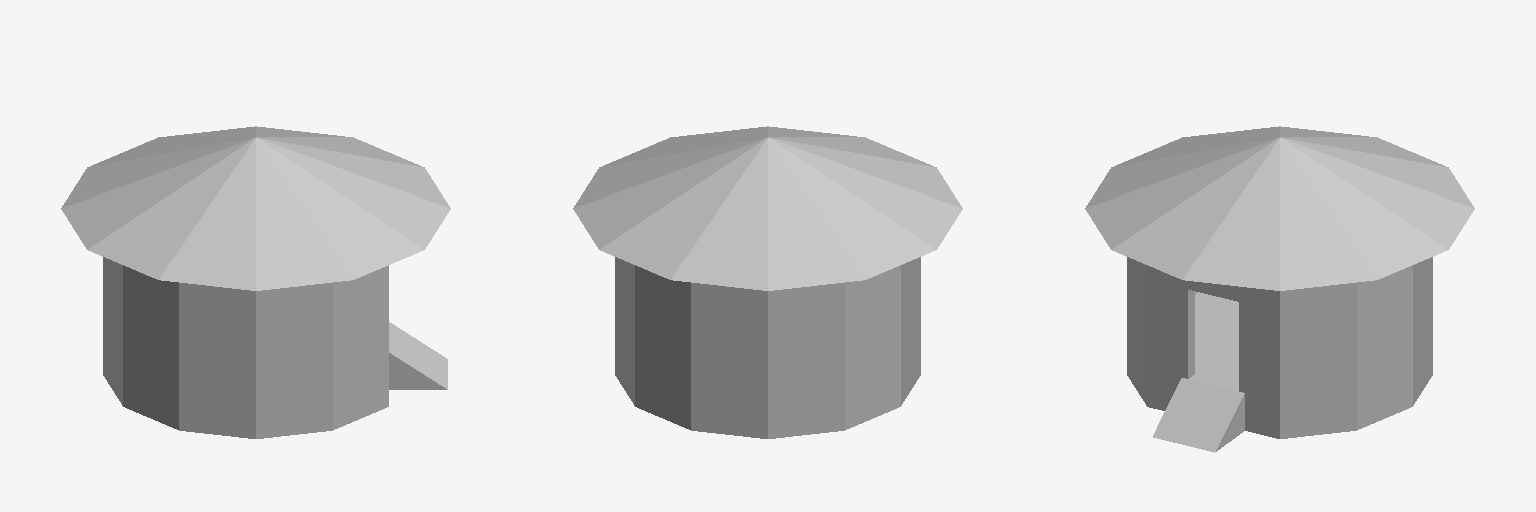
Rendered from house round.obj.
3 views of the same model, side by side, from view 1: azimuth 30°, elevation 25°; view 2: azimuth 150°, elevation 25°; view 3: azimuth 270°, elevation 25° (orthographic).
Parts seen in each view (by area): view 1: Cylinder.005, Cylinder.002, Cube.008; view 2: Cylinder.005, Cylinder.002; view 3: Cylinder.005, Cylinder.002, Cube.008.
Part boxes in pixels (bbox=[...]): Cylinder.005: bbox=[61, 126, 450, 290]; Cylinder.002: bbox=[103, 257, 388, 438]; Cube.008: bbox=[389, 322, 447, 389]; Cylinder.005: bbox=[573, 126, 962, 290]; Cylinder.002: bbox=[615, 257, 920, 438]; Cylinder.005: bbox=[1085, 126, 1474, 290]; Cylinder.002: bbox=[1127, 257, 1432, 438]; Cube.008: bbox=[1153, 378, 1244, 452].
Size of the model in its own units: 7.43 by 4.99 by 7.43.